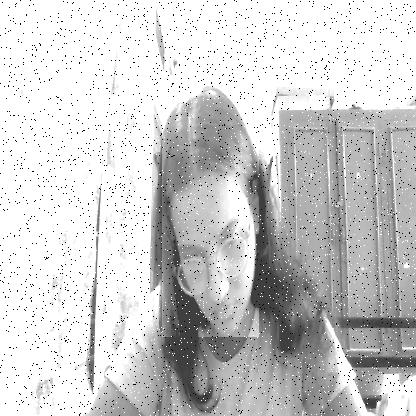Normal: (162, 79, 259, 337)
